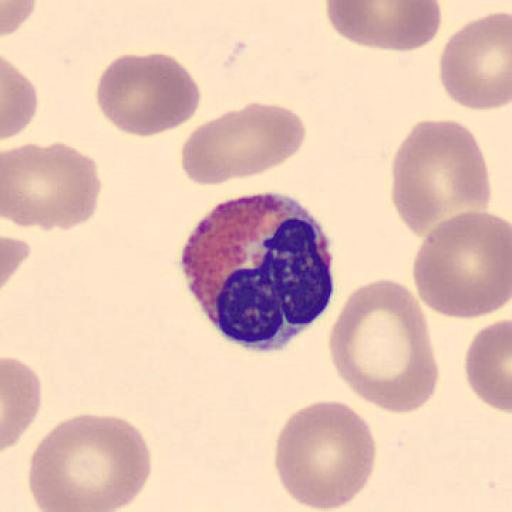RBC: (328, 277, 439, 417), (28, 410, 153, 512), (390, 117, 492, 240), (273, 398, 377, 512), (179, 102, 309, 188), (411, 209, 511, 320), (94, 50, 202, 140), (2, 140, 103, 232), (438, 10, 512, 113), (324, 0, 442, 52), (2, 140, 68, 232), (463, 316, 512, 414), (2, 355, 42, 452), (2, 54, 38, 142), (2, 234, 32, 291), (0, 0, 37, 38)
WBC: (180, 187, 336, 352)
